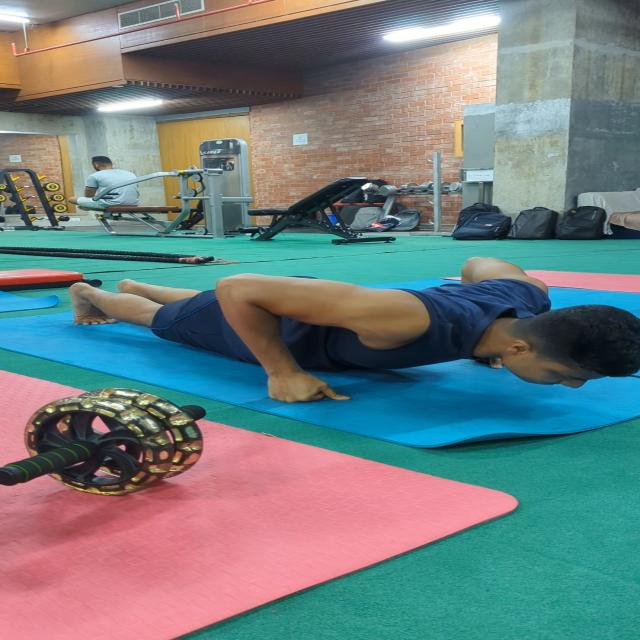Normal_PushUps: (35, 240, 640, 406)
